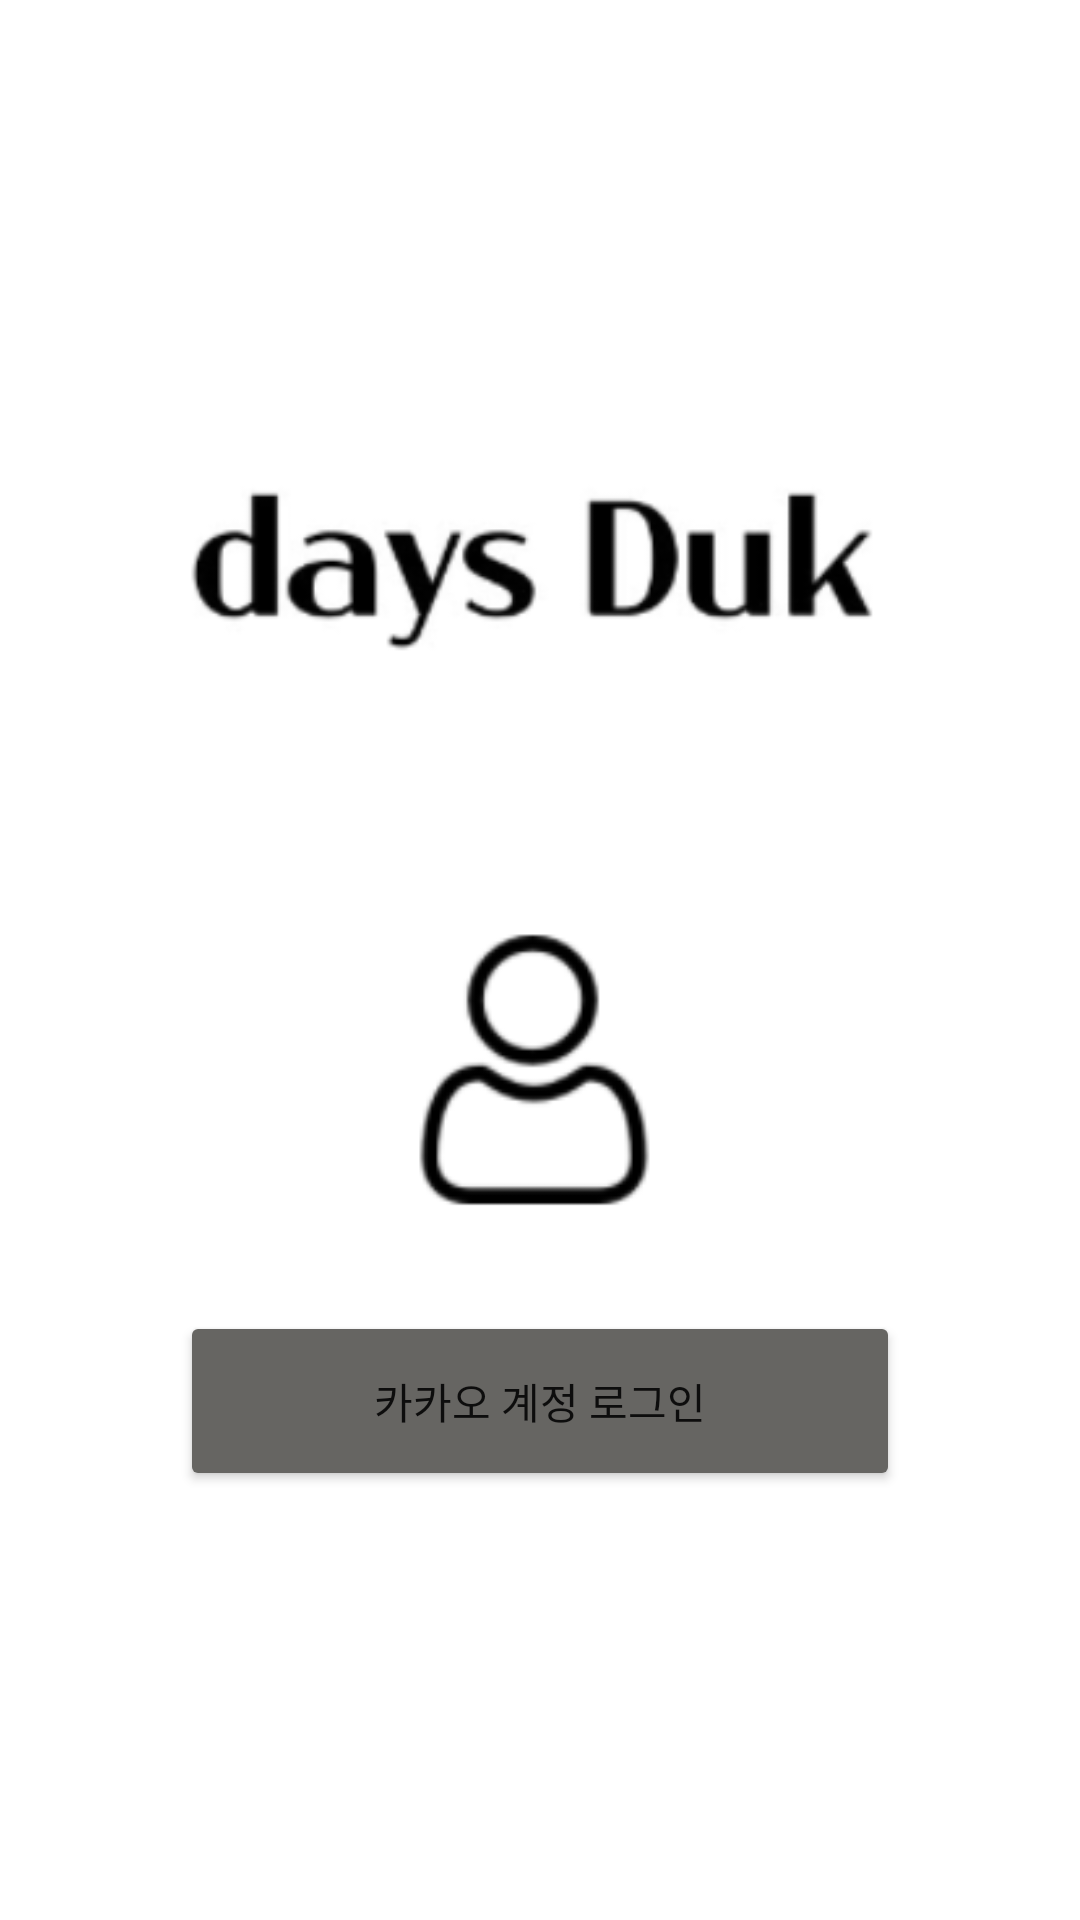

Icons on this 1080px×1920px Android screen, each with the point to tap as point (x, y):
user: point (534, 1069)
